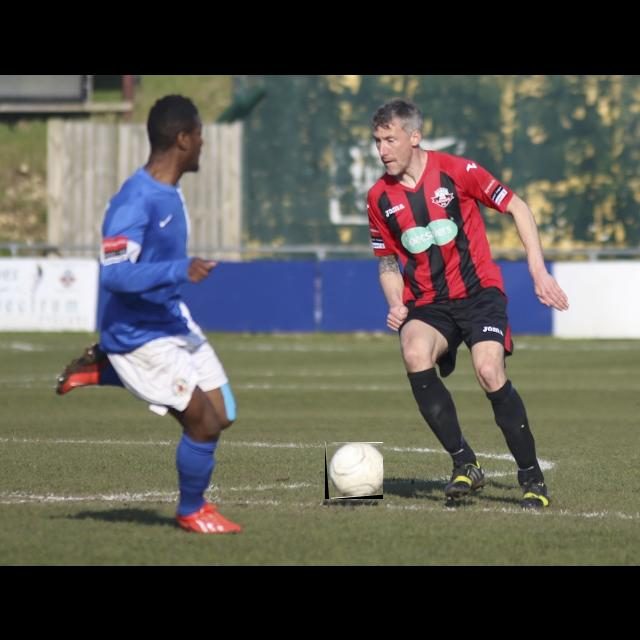Football: (325, 443, 383, 499)
